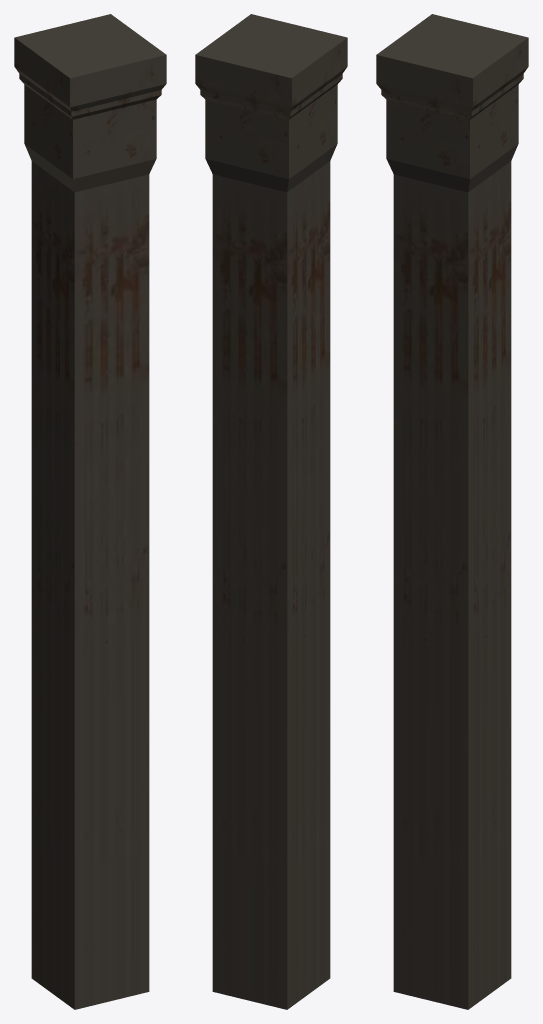
File: Metal_Column_Small_Top.glb
The picture shows the model from 3 angles, left to right: view 1: azimuth 30°, elevation 25°; view 2: azimuth 150°, elevation 25°; view 3: azimuth 330°, elevation 25°; orthographic projection.
Parts seen in each view (by area): view 1: Metal_Column_Small_Top; view 2: Metal_Column_Small_Top; view 3: Metal_Column_Small_Top.
Boxes of the visible parts, x1,y1,x2,y2 form: Metal_Column_Small_Top: (14,14,166,1009); Metal_Column_Small_Top: (195,14,347,1009); Metal_Column_Small_Top: (376,14,528,1009).
Size of the model in its own units: 0.322 by 3 by 0.3224.
1 material, 1 textured.
